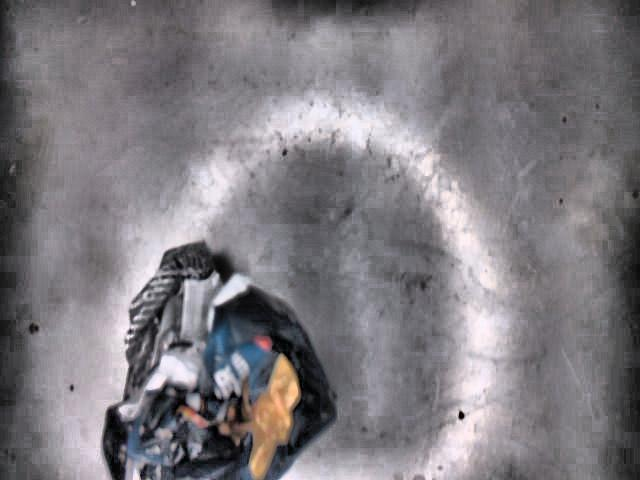Plastic: (104, 238, 335, 480)
